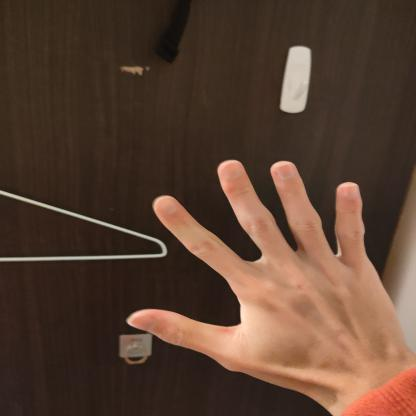bare_hand: (115, 143, 415, 415)
